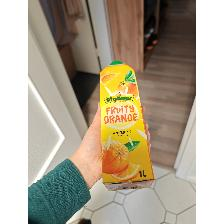Saft: (98, 60, 156, 192)
